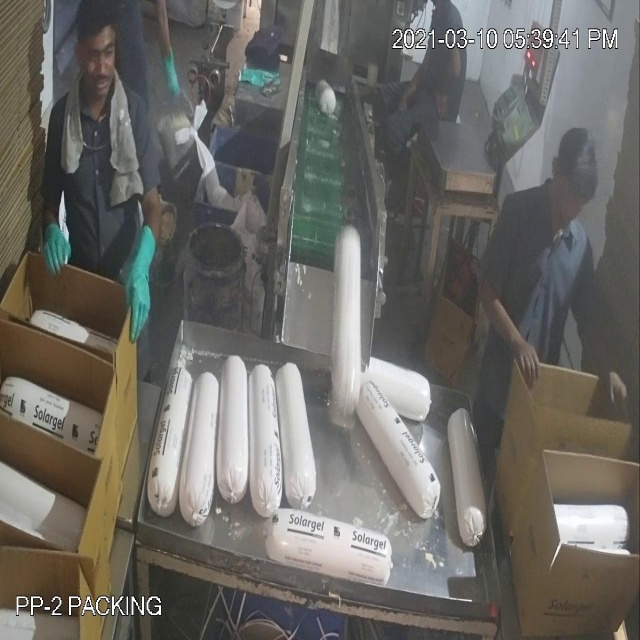Guantes: (114, 220, 166, 341)
Sin_guantes: (461, 268, 542, 396), (578, 301, 633, 420)
